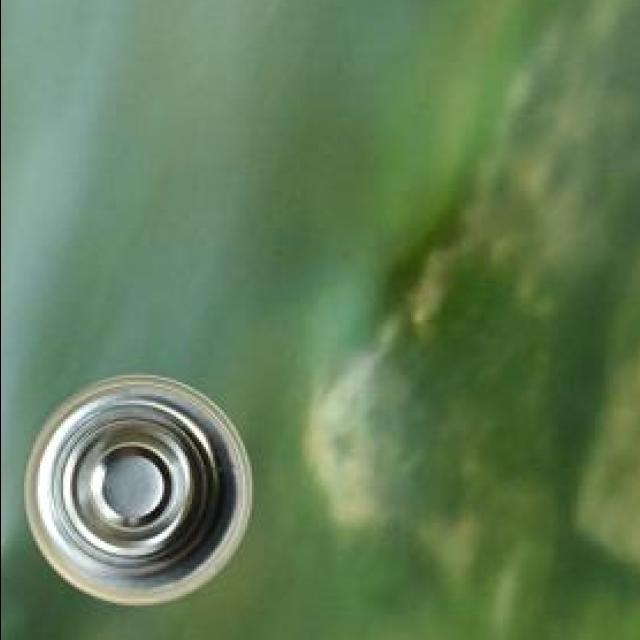logam: (20, 372, 247, 602)
